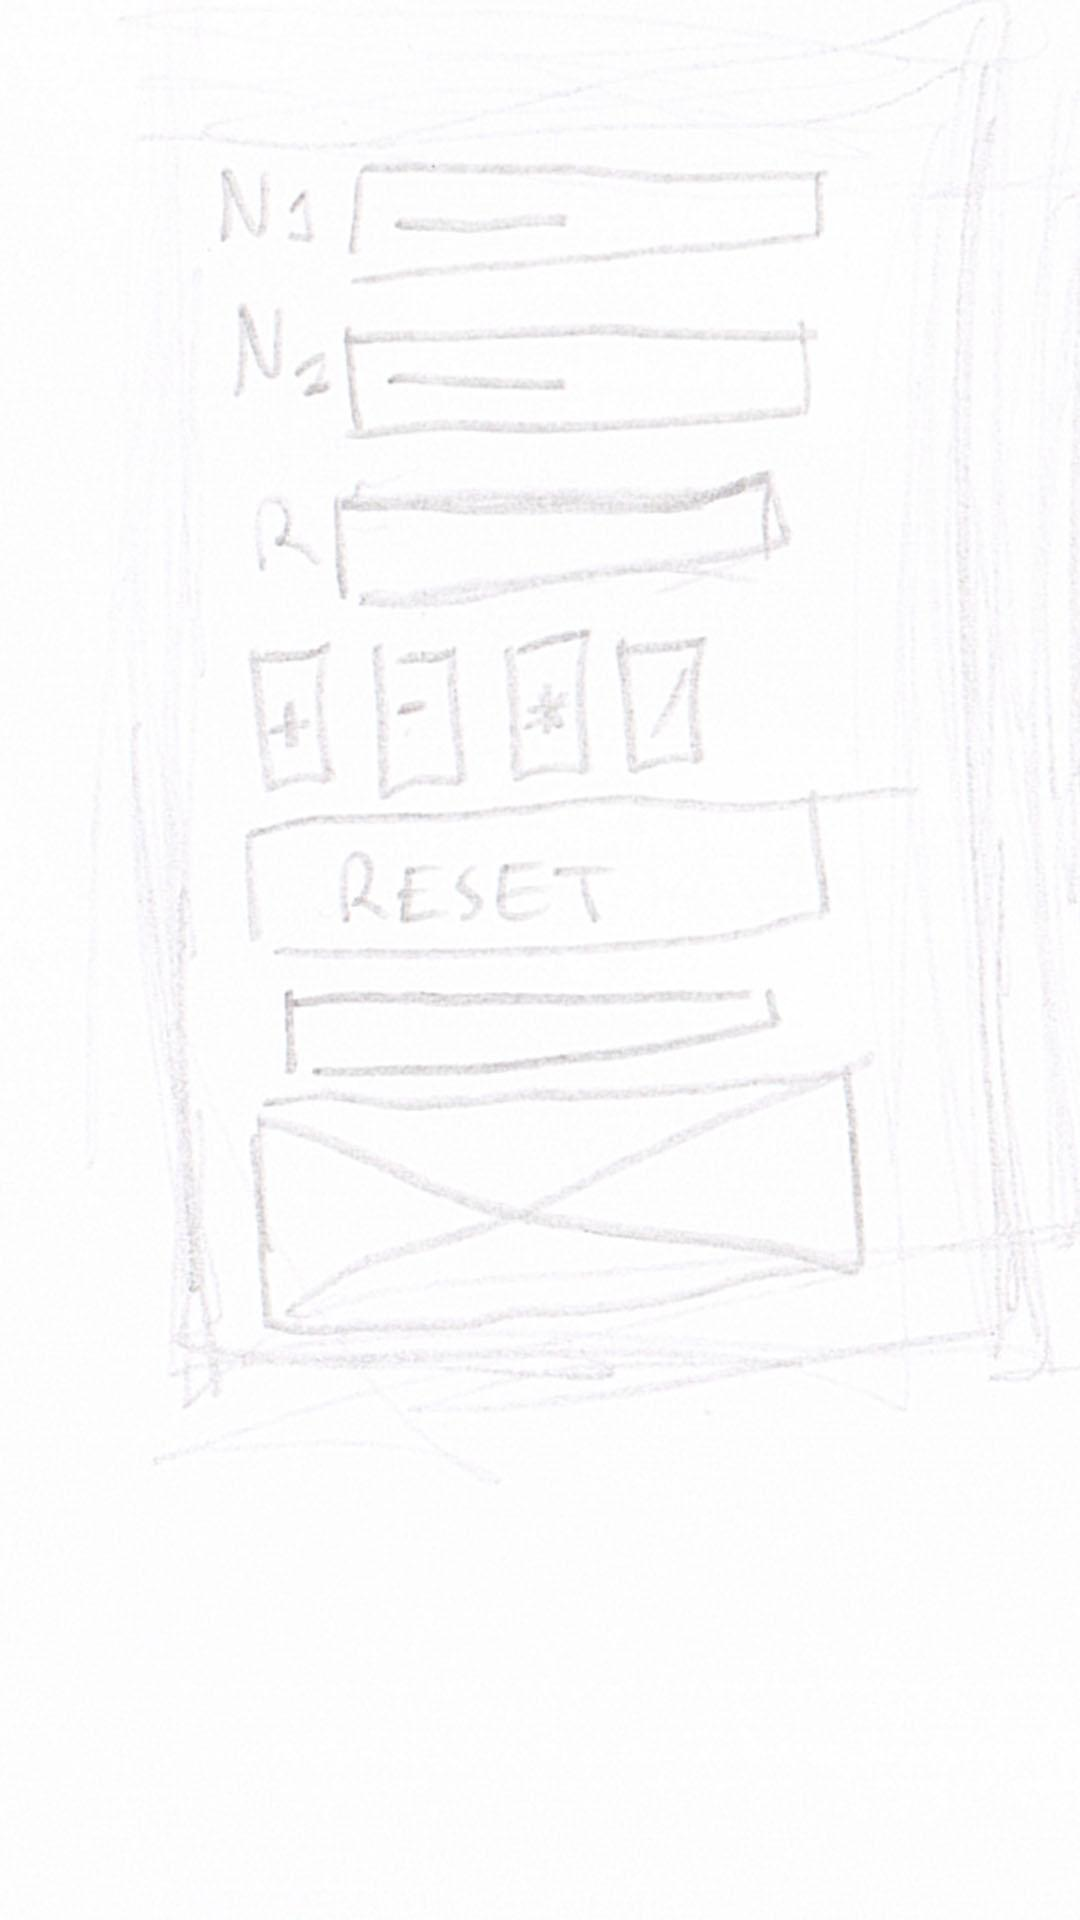Button: (249, 802, 831, 957), (375, 645, 467, 794), (506, 629, 591, 790), (251, 645, 335, 793), (616, 638, 704, 773)
Image: (258, 1071, 866, 1336)
Label: (203, 160, 326, 256), (227, 305, 330, 401), (248, 493, 322, 576)
Screen: (181, 67, 990, 1371)
TextBox: (334, 481, 786, 611), (348, 165, 823, 280), (344, 330, 810, 434), (281, 990, 785, 1077)
